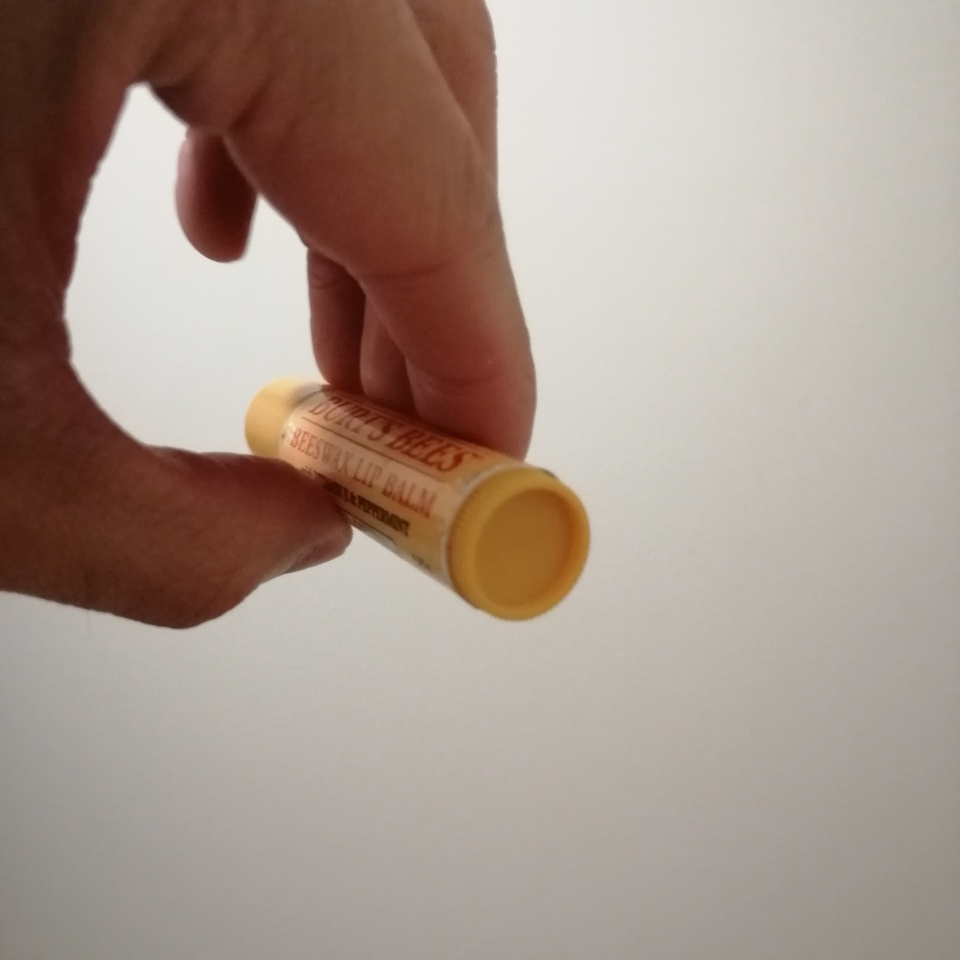chapstick: (243, 375, 593, 623)
